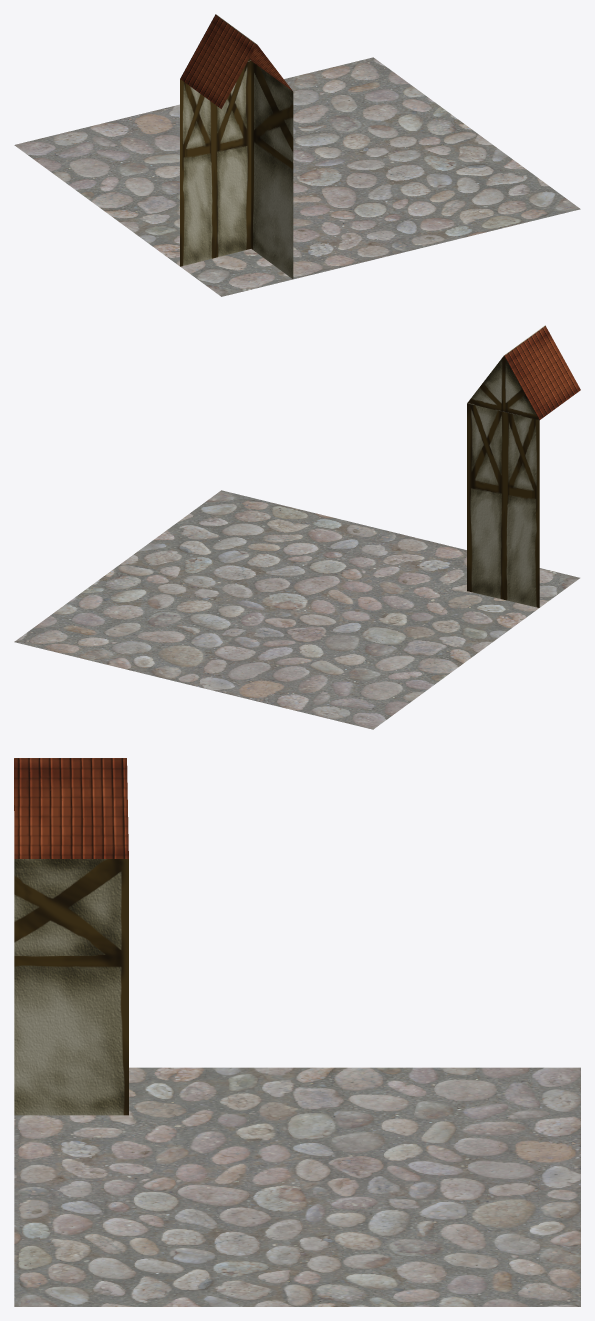
The model's file is 3-5_Edge_wall_B1.fbx.
3 views of the same model, one above another, from view 1: azimuth 30°, elevation 25°; view 2: azimuth 150°, elevation 25°; view 3: azimuth 270°, elevation 25° (orthographic). The views are drawn at different scales.
Parts seen in each view (by area): view 1: Edge_Wall_V3; view 2: Edge_Wall_V3; view 3: Edge_Wall_V3.
Part boxes in pixels (x1=…): Edge_Wall_V3: x1=14, y1=14, x2=580, y2=296; Edge_Wall_V3: x1=14, y1=325, x2=580, y2=729; Edge_Wall_V3: x1=14, y1=758, x2=580, y2=1306.
Bounding box in the file's own units: 100 × 64.88 × 100.
2 materials, 2 textured.
